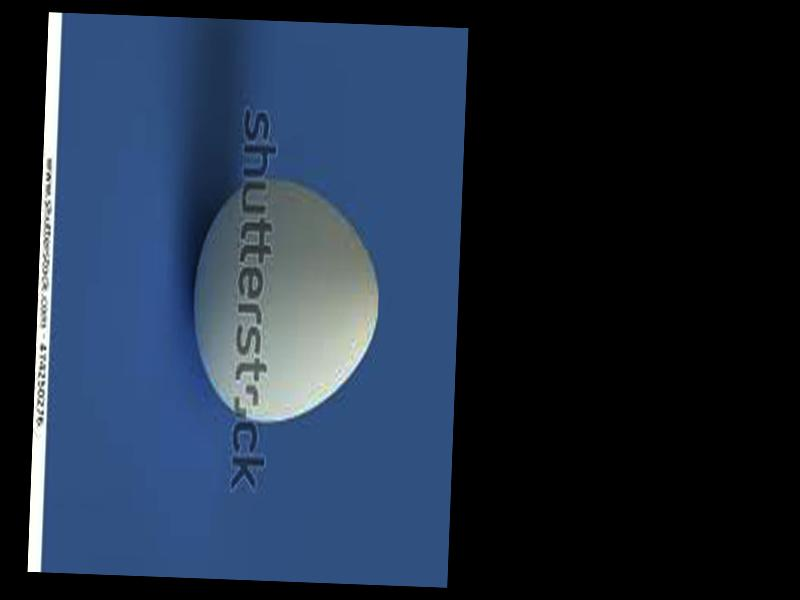Eggs: (187, 175, 382, 427)
